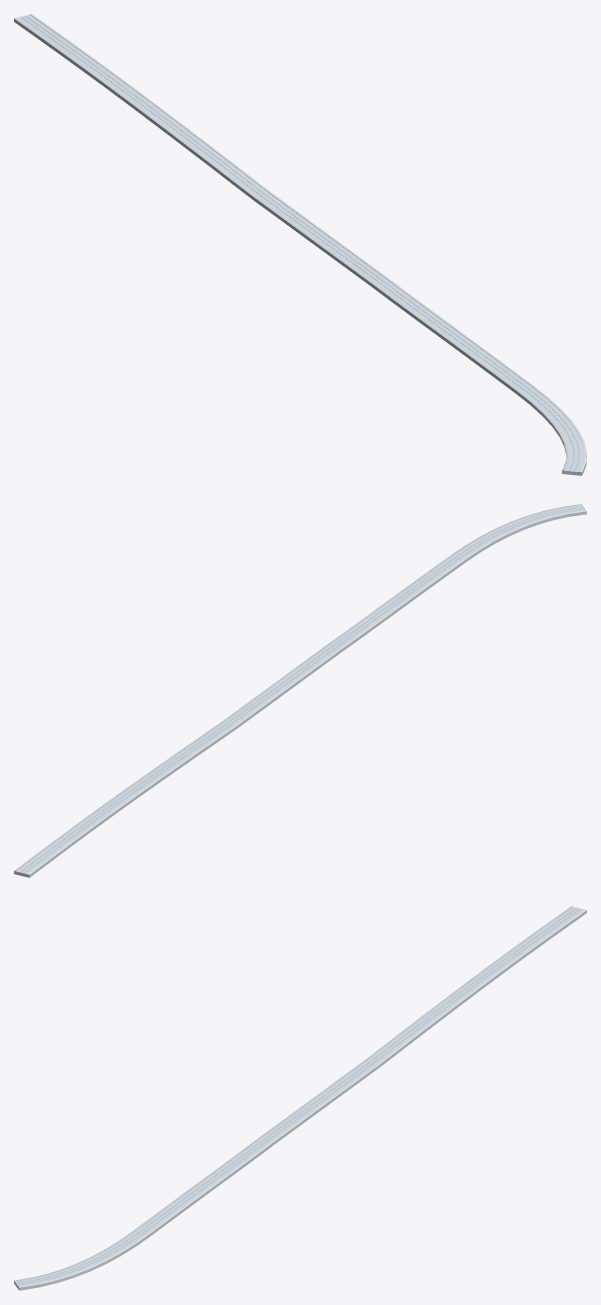
The model's file is Road_1_0_-1.fbx.
3 views of the same model, one above another, from view 1: azimuth 30°, elevation 25°; view 2: azimuth 150°, elevation 25°; view 3: azimuth 330°, elevation 25° (orthographic). The views are drawn at different scales.
Parts seen in each view (by area): view 1: Road_1_0_-1; view 2: Road_1_0_-1; view 3: Road_1_0_-1.
Boxes of the visible parts, x1,y1,x2,y2 form: Road_1_0_-1: (14, 14, 586, 475); Road_1_0_-1: (14, 504, 586, 877); Road_1_0_-1: (14, 906, 586, 1290).
Size of the model in its own units: 3712 by 607 by 60357.
